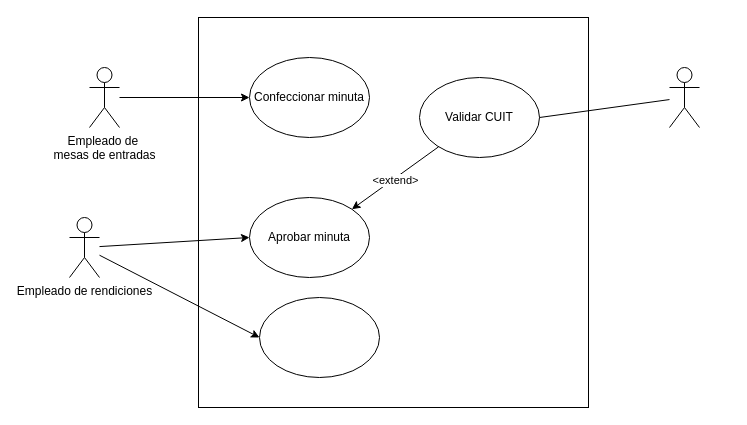
Some shapes in this 747 by 425 pixel diagram are drawn without their labels. The shapes that lost their labels are listed below. From the top down, each one's centre as x and y in pixels, then its label:
At point (684, 97): "Servidor de AFIP".
At point (319, 337): "Imprimir listado".
